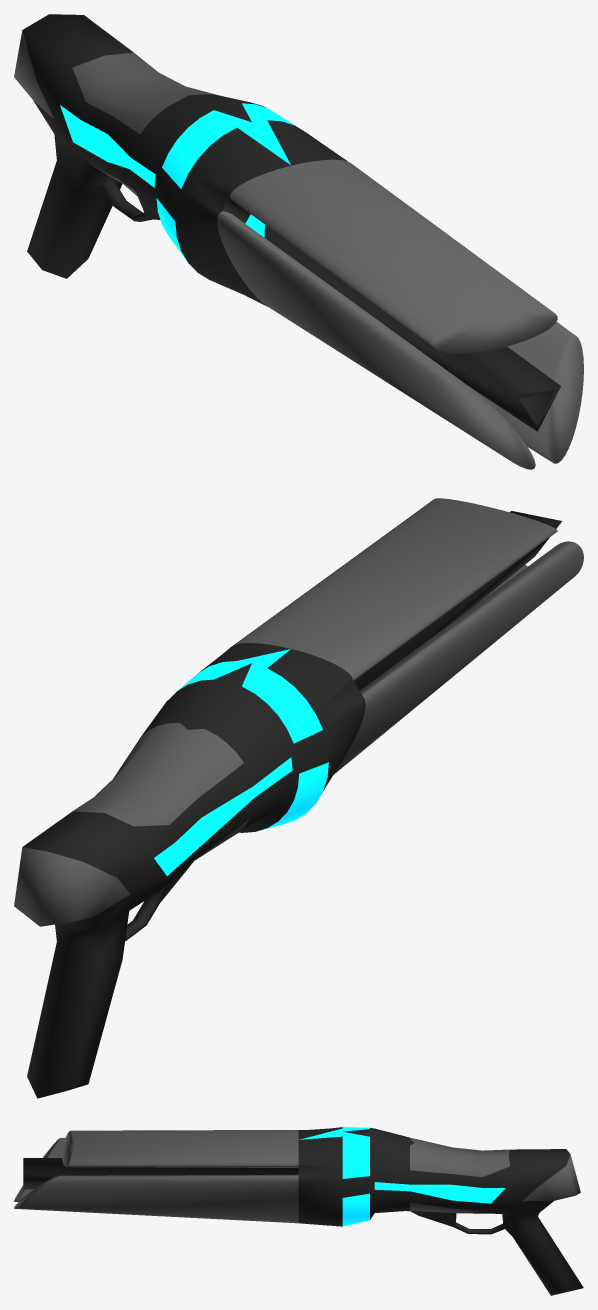
The model's file is Gewehr1_Edit2.fbx.
3 renders of one model, top to bottom at view 1: azimuth 30°, elevation 25°; view 2: azimuth 150°, elevation 25°; view 3: azimuth 270°, elevation 25°, orthographic. The views are drawn at different scales.
Visible parts, largest first — view 1: Cylinder; view 2: Cylinder; view 3: Cylinder.
Part boxes in pixels (x1=…): Cylinder: x1=14, y1=14, x2=583, y2=469; Cylinder: x1=14, y1=498, x2=583, y2=1098; Cylinder: x1=14, y1=1127, x2=583, y2=1295.
Size of the model in its own units: 9.97 by 18.12 by 57.02.
